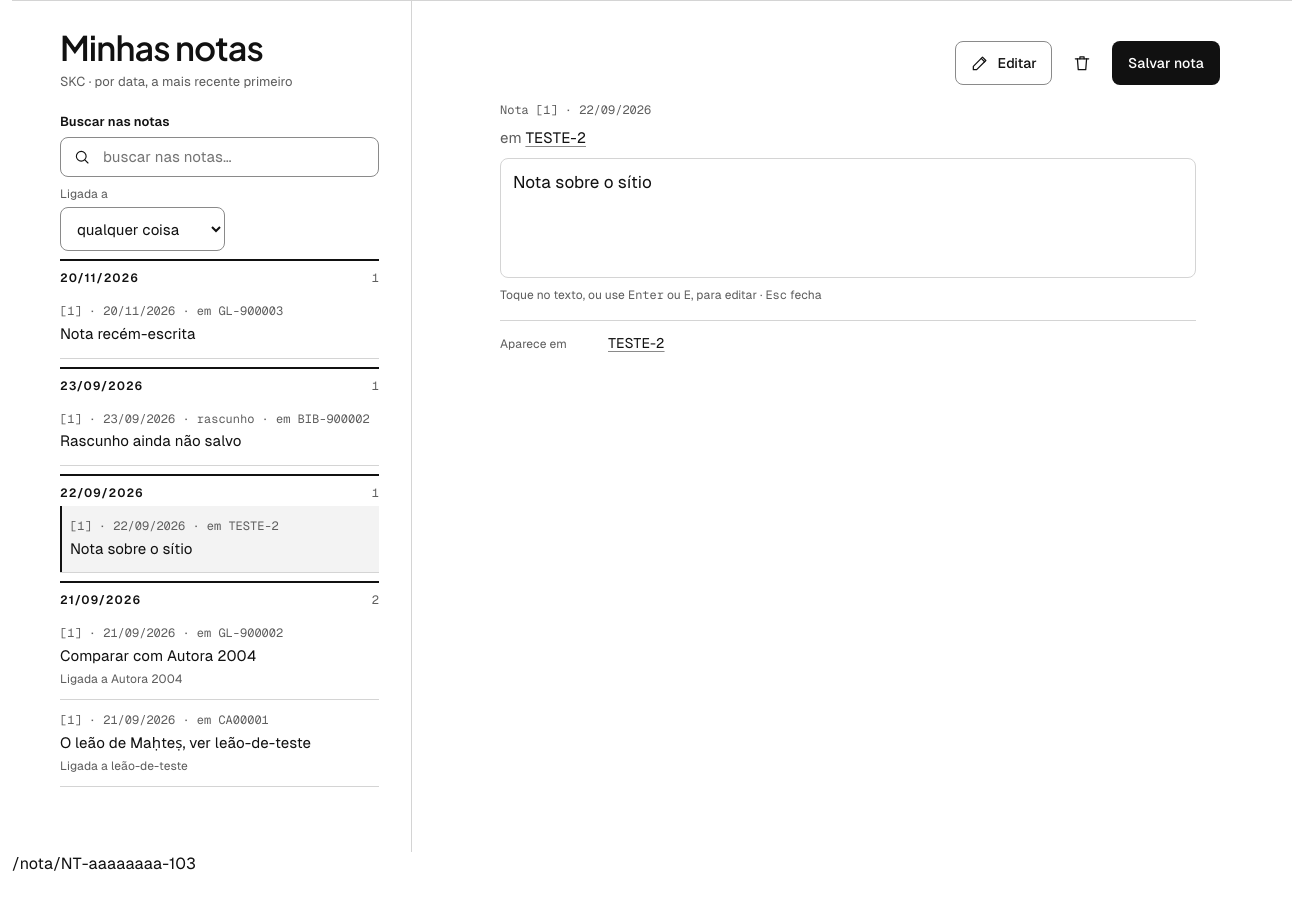
Test: Minhas notas no computador: a lista e a nota lado a lado › a barra da nota tem Inserir link, Excluir nota e Salvar nota; sair do campo grava e a lista mostra o texto novo
Click the button "Editar".
click(1003, 63)  # box x1=955 y1=41 x2=1052 y2=85
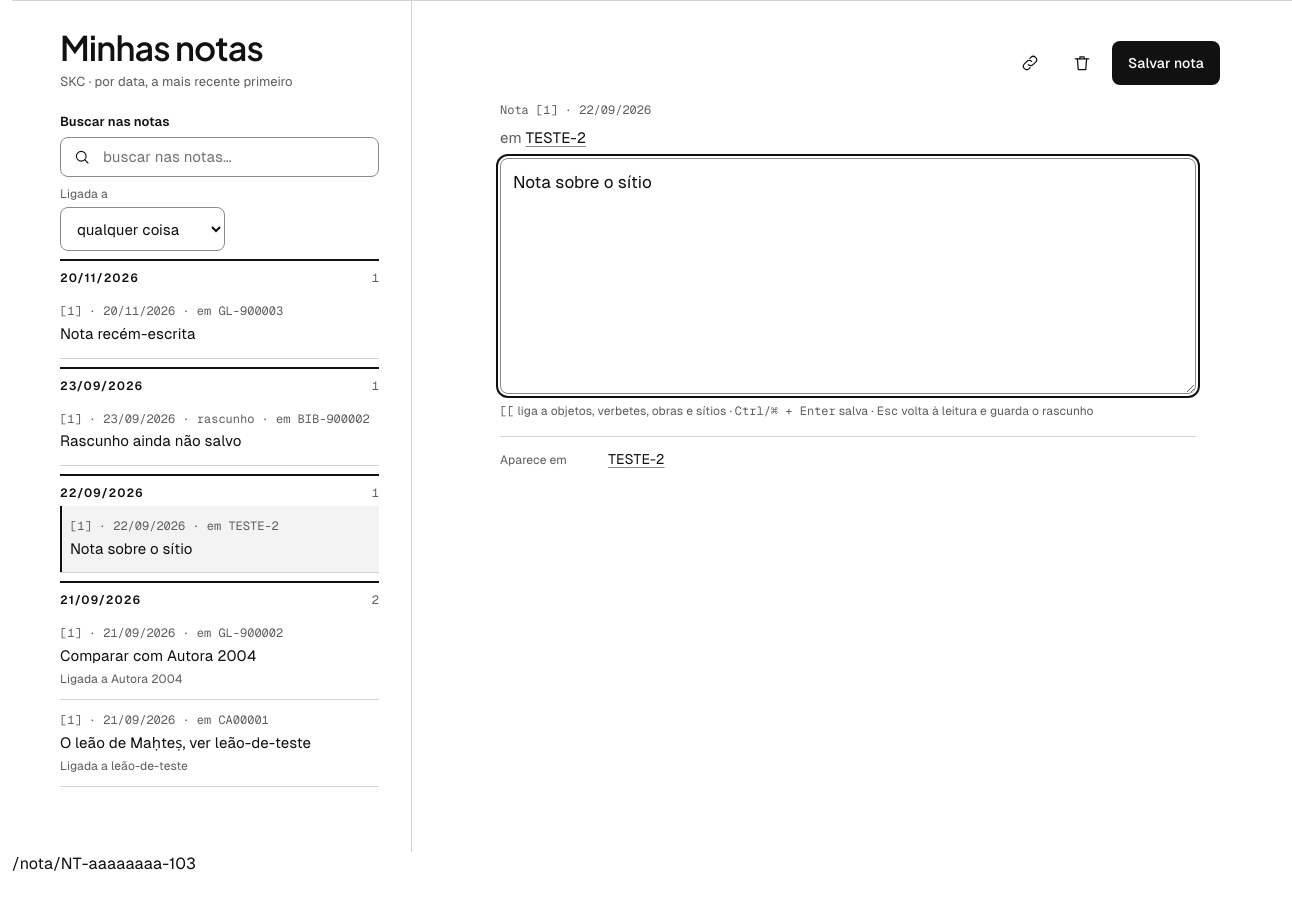
Expected: the button named "Excluir nota" is shown, x1=1060 y1=41 x2=1104 y2=85
Expected: the button named "Inserir link para objeto, verbete ou obra" is shown, x1=1008 y1=41 x2=1052 y2=85
Type " e mais um pouco" into the text box labelled "Nota [1] · 22/09/2026".
click(848, 276); type(" e mais um pouco")  # box x1=500 y1=158 x2=1196 y2=394
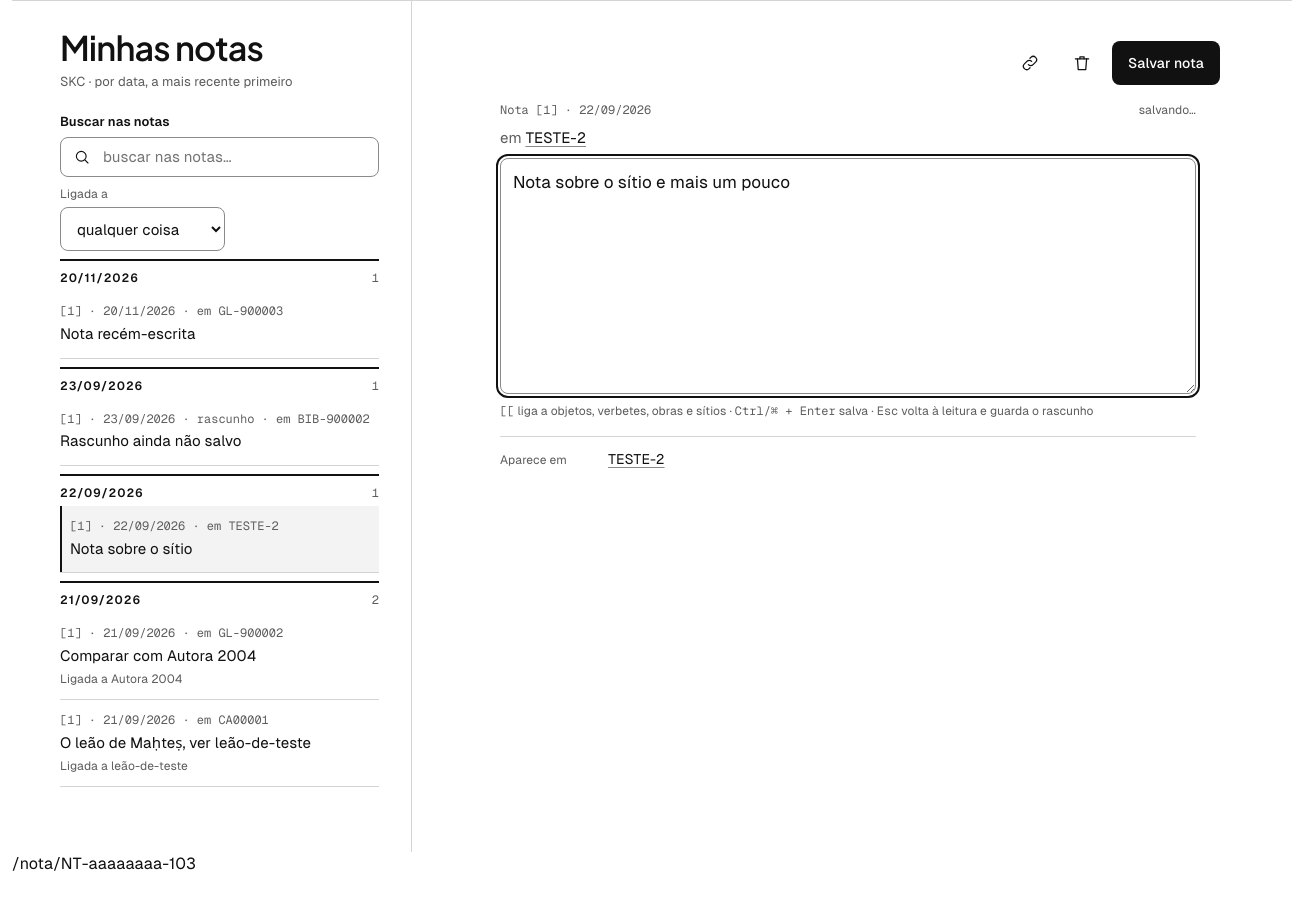
Press Tab
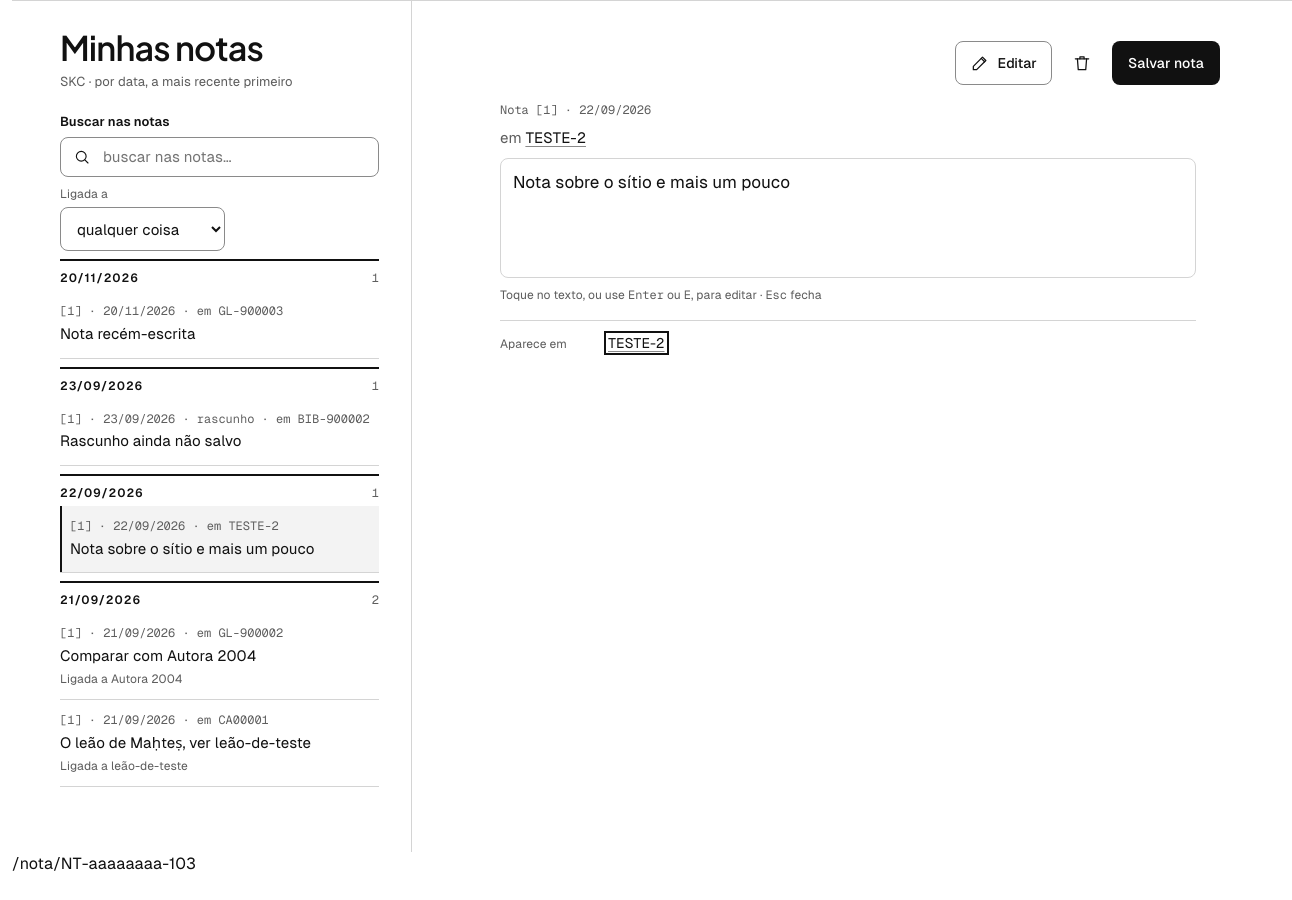
Expected: the link "Nota sobre o sítio e mais um pouco" is shown, x1=60 y1=506 x2=379 y2=573
